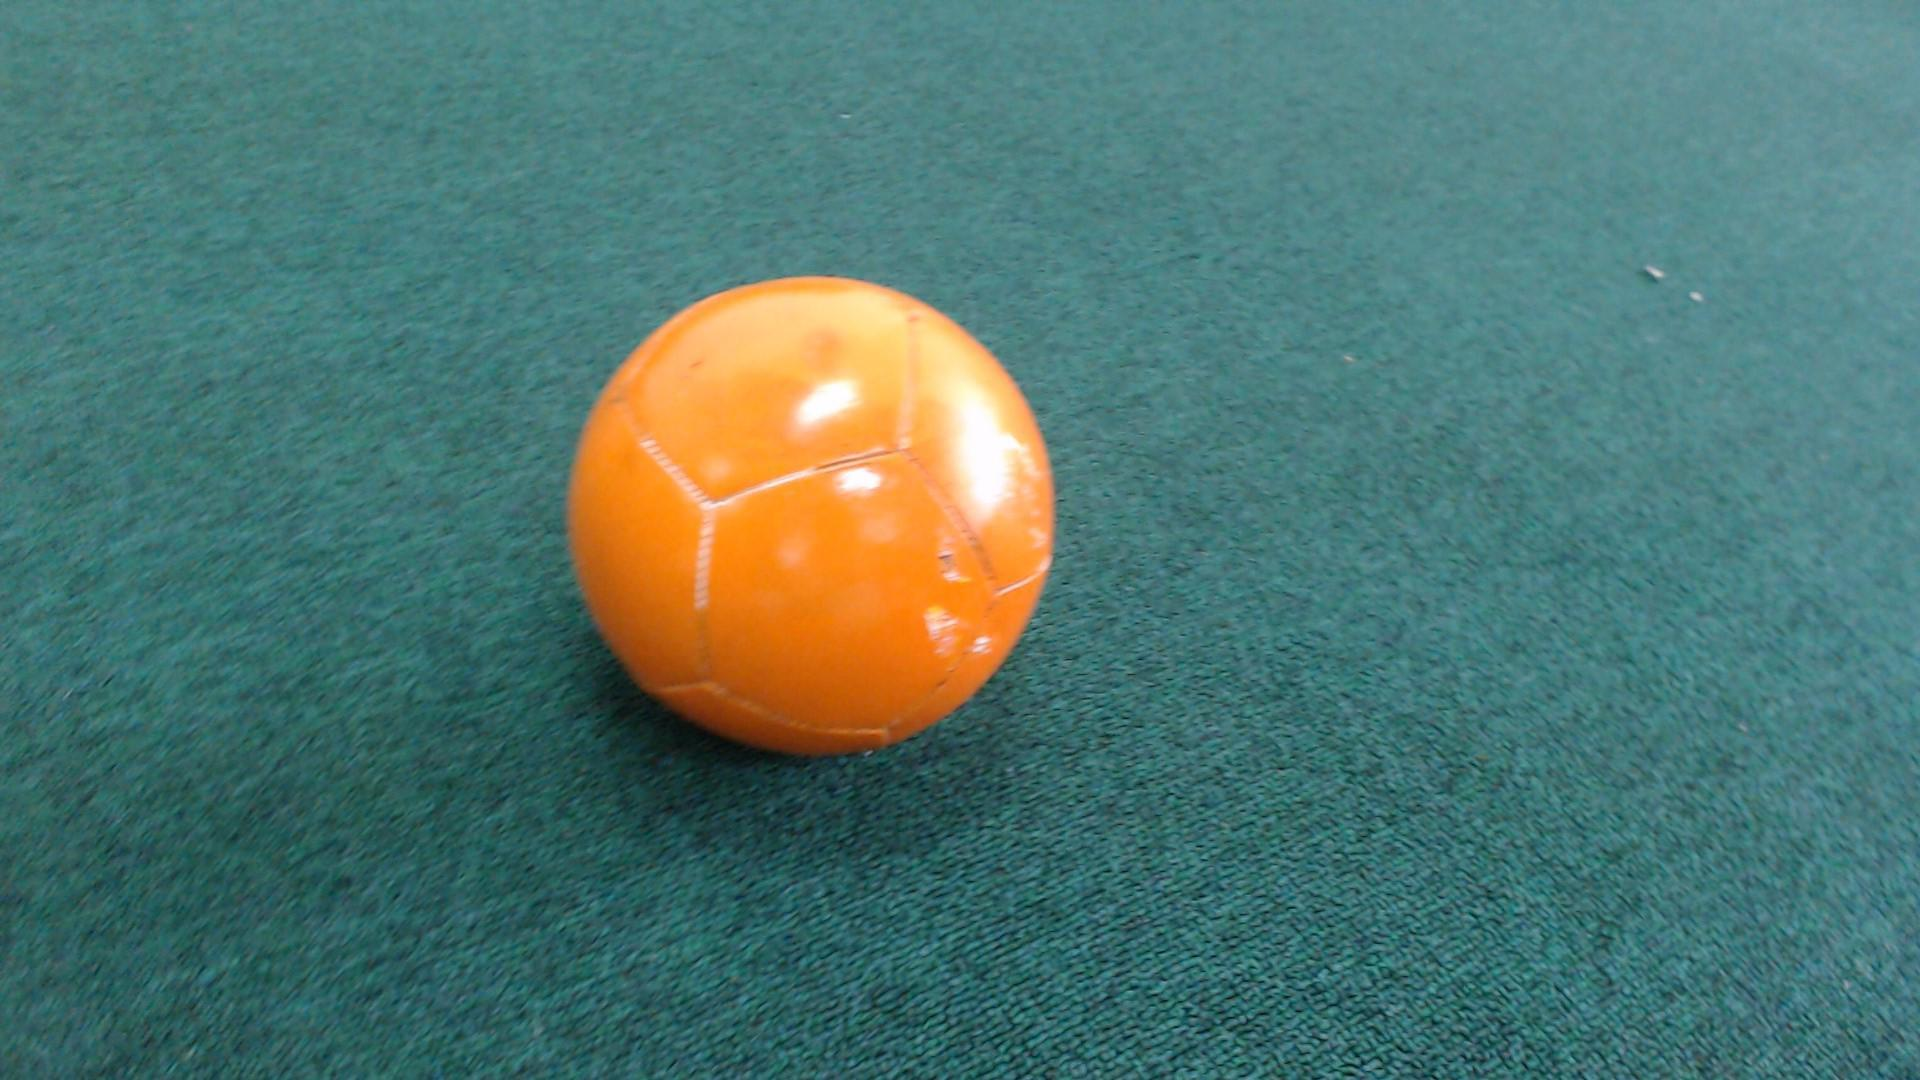bola: (534, 256, 1089, 778)
